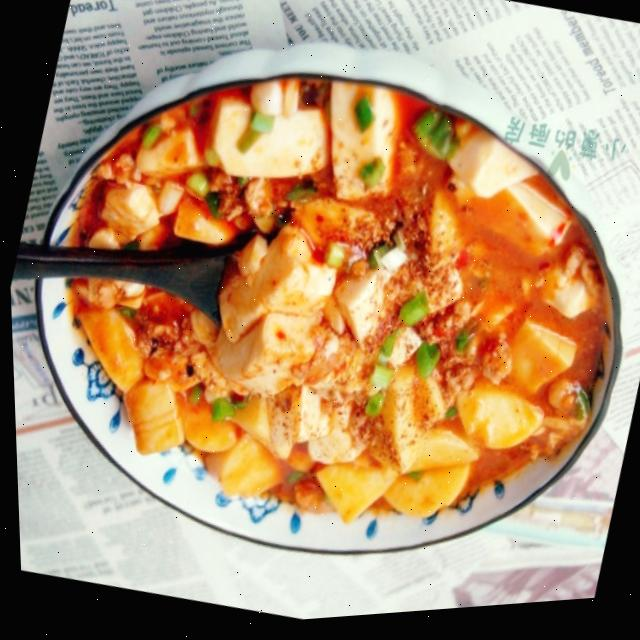豆腐料理: (1, 6, 640, 640)
